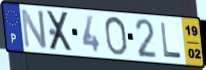2: (134, 17, 159, 60)
4: (82, 14, 102, 54)
L: (159, 21, 183, 60)
N: (20, 7, 49, 51)
O: (103, 15, 129, 57)
X: (46, 10, 75, 53)
